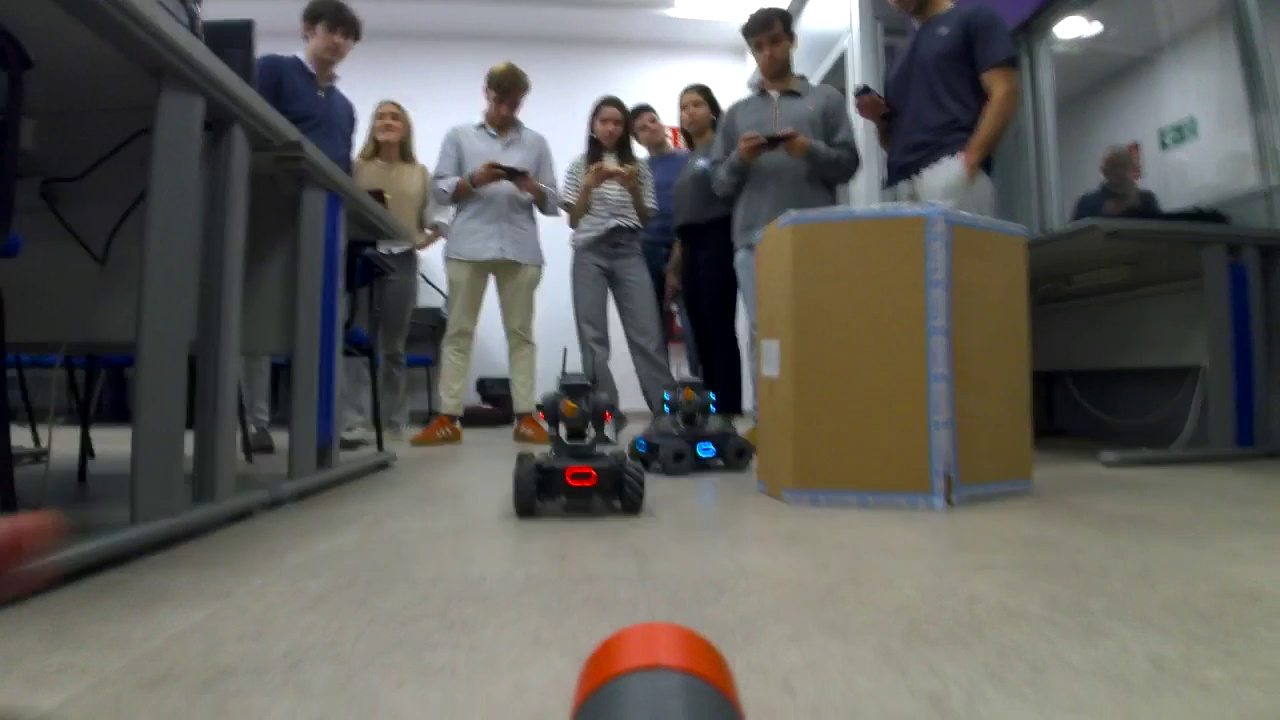robot: (510, 370, 649, 521), (633, 373, 753, 470)
